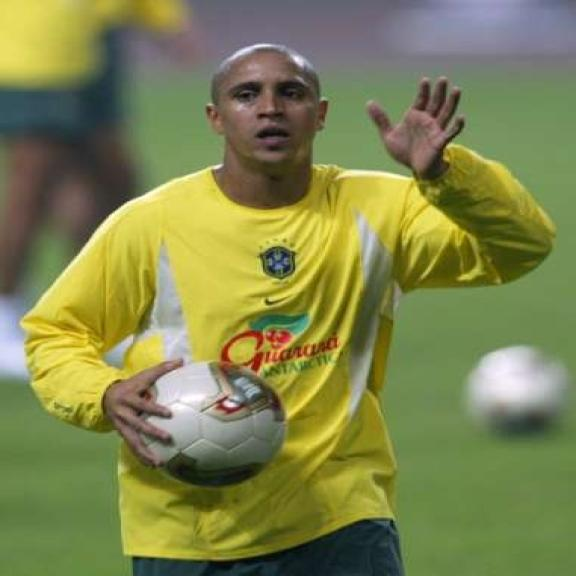face: (202, 51, 330, 165)
